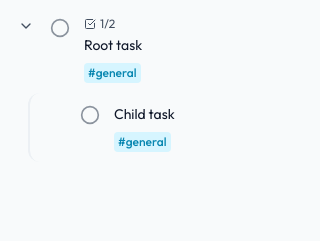
Test: TaskTree focus sync › keeps done subtasks behind the third fold state when only broader scope filters are active
Expected: the text "Child task" is shown, 114,105 -> 175,123
Expected: the text "Done grandchild" is not shown
Click the button with test id "tree-fold-toggle-root" at (26, 26), box 16,16 -> 36,36
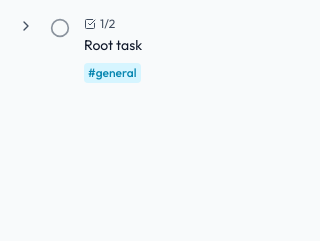
Expected: the text "Done grandchild" is not shown
Now the button "Child task" is gone
Click the button with test id "tree-fold-toggle-root" at (26, 26), box 16,16 -> 36,36
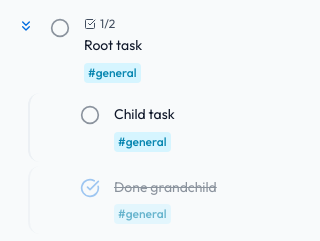
Now the text "Child task" is shown, box 114,105 -> 175,123
Now the text "Done grandchild" is shown, box 114,178 -> 217,196
Click the button with test id "tree-fold-toggle-root" at (26, 26), box 16,16 -> 36,36
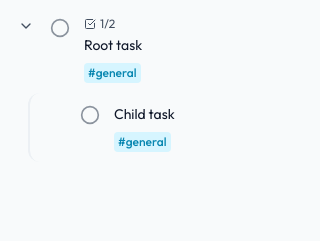
Now the text "Child task" is shown, box 114,105 -> 175,123
Now the button "Done grandchild" is gone
